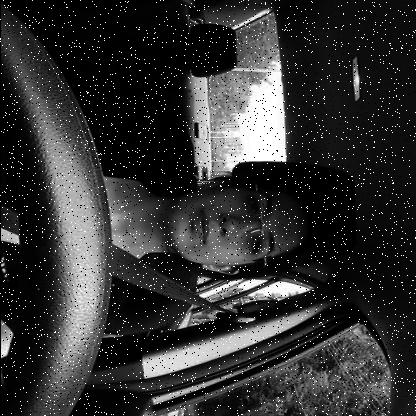seatbelt: (0, 165, 345, 324)
